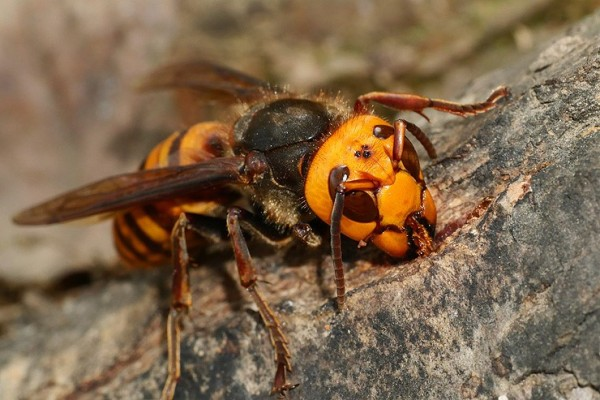asian_giant_hornet: (110, 85, 438, 312)
